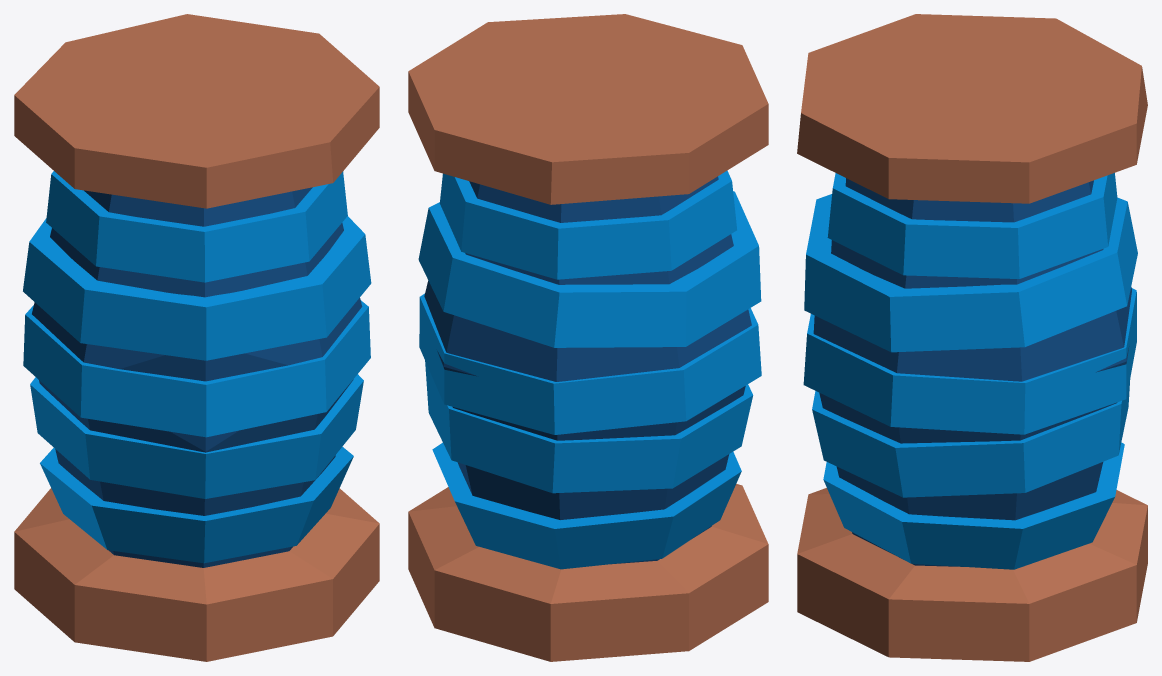
File: Thread 02.fbx
3 renders of one model, left to right at view 1: azimuth 30°, elevation 25°; view 2: azimuth 150°, elevation 25°; view 3: azimuth 270°, elevation 25°, orthographic.
Visible parts, largest first — view 1: Thread 01.001; view 2: Thread 01.001; view 3: Thread 01.001.
Part boxes in pixels (<box>): Thread 01.001: <box>14,14,379,661</box>; Thread 01.001: <box>408,14,768,661</box>; Thread 01.001: <box>797,14,1147,661</box>.
Size of the model in its own units: 31.56 by 49.53 by 31.54.
